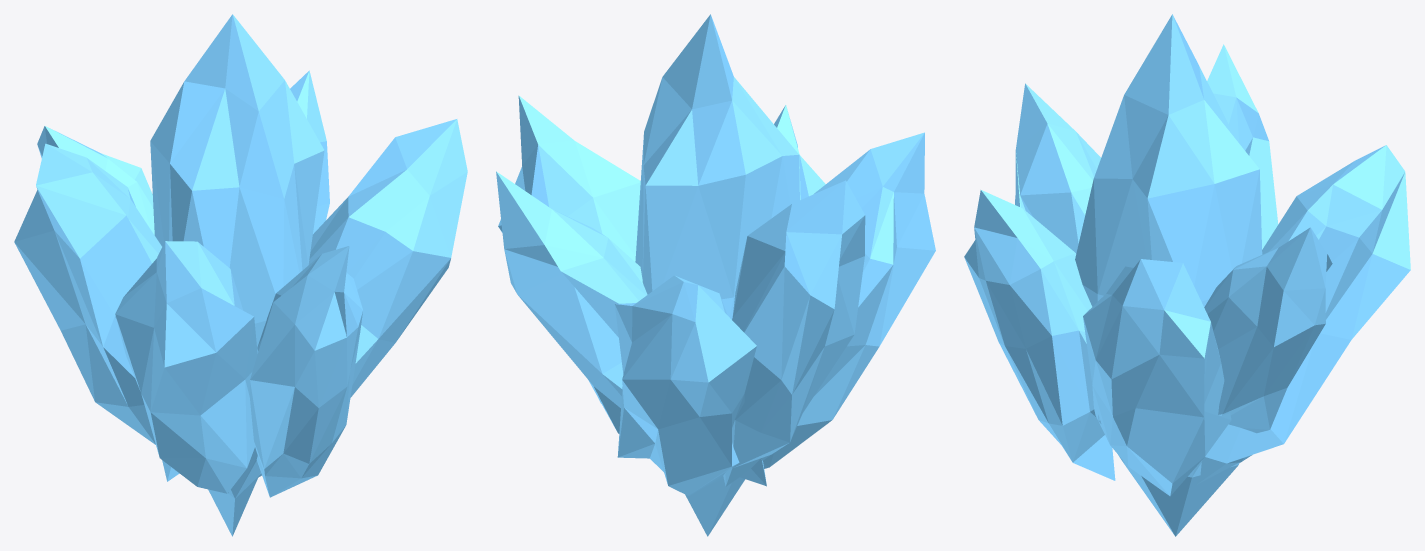
Rendered from Crystal.fbx.
3 views of the same model, side by side, from view 1: azimuth 30°, elevation 25°; view 2: azimuth 150°, elevation 25°; view 3: azimuth 270°, elevation 25° (orthographic).
Parts seen in each view (by area): view 1: Crystal; view 2: Crystal; view 3: Crystal.
Boxes of the visible parts, bbox=[...] form: Crystal: bbox=[14, 14, 467, 536]; Crystal: bbox=[496, 14, 935, 536]; Crystal: bbox=[964, 14, 1410, 536].
Bounding box in the file's own units: 154 × 200 × 155.
